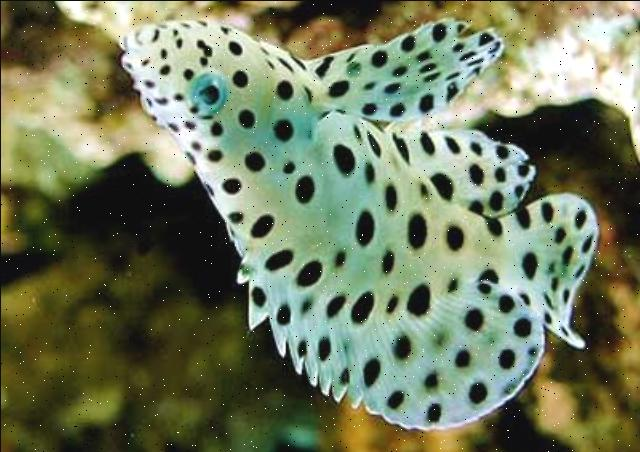Mulut: (86, 6, 172, 96)
Sirip Anal: (372, 120, 542, 220)
Sirip Dada: (280, 14, 508, 132)
Sirip Ekor: (494, 184, 600, 364)
Sirip Punggung: (232, 244, 546, 430)
